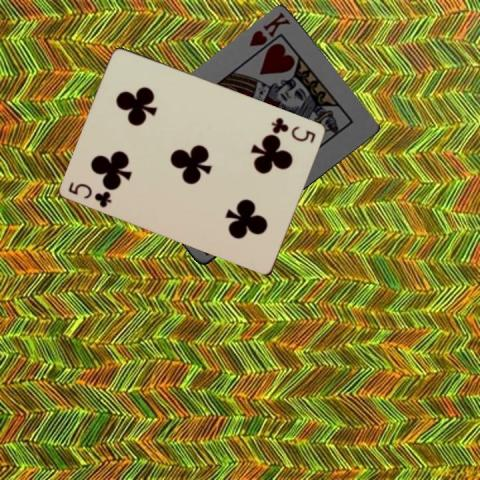5c: (269, 114, 317, 145), (66, 178, 114, 209)
Kh: (246, 9, 292, 49)
